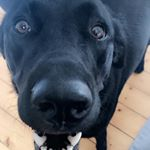puppy: (1, 8, 114, 149)
